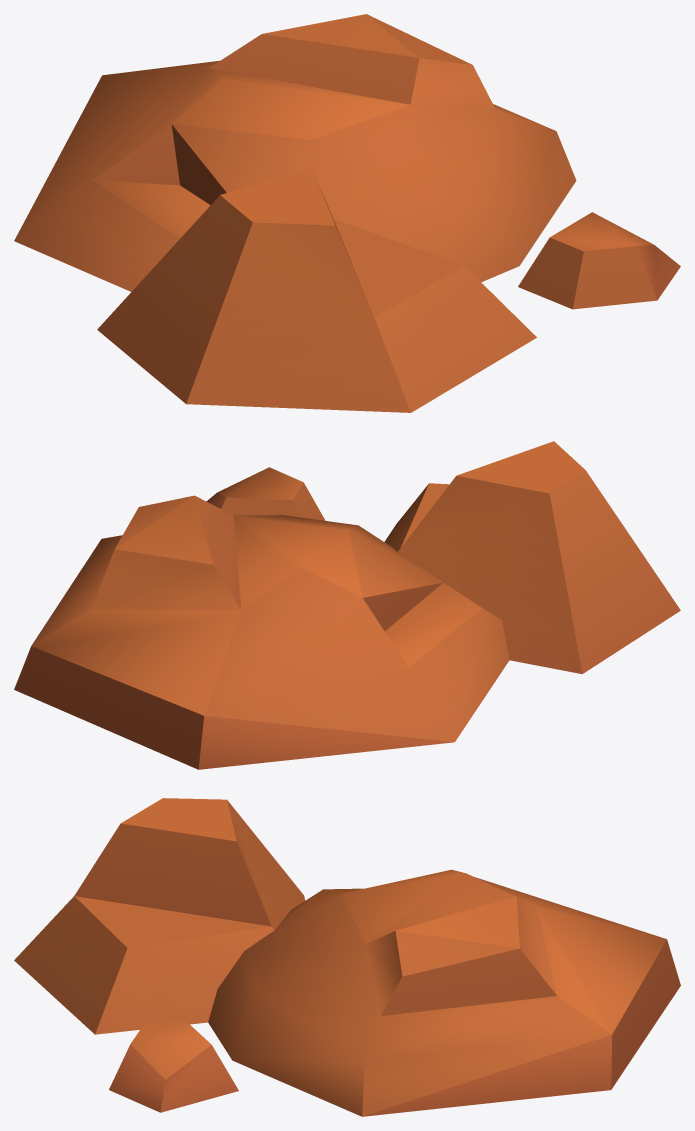
The model's file is kaykit_rocks_a_v01.glb.
3 views of the same model, one above another, from view 1: azimuth 30°, elevation 25°; view 2: azimuth 150°, elevation 25°; view 3: azimuth 270°, elevation 25° (orthographic). The views are drawn at different scales.
Parts seen in each view (by area): view 1: rocks_A; view 2: rocks_A; view 3: rocks_A.
Part boxes in pixels (x1=…): rocks_A: x1=14, y1=14, x2=680, y2=412; rocks_A: x1=14, y1=441, x2=680, y2=769; rocks_A: x1=14, y1=798, x2=680, y2=1116.
Bounding box in the file's own units: 1.31 × 0.354 × 1.64.
Materials: 1 (1 with a texture image).
